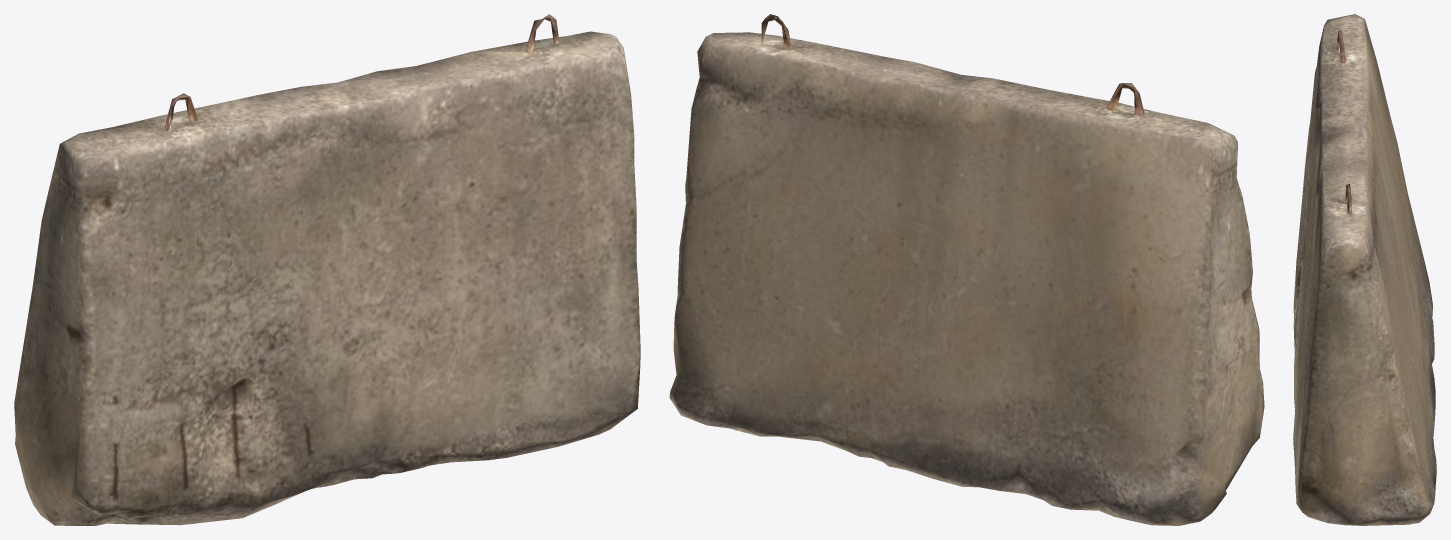
The model's file is barrier_low.glb.
3 renders of one model, left to right at view 1: azimuth 30°, elevation 25°; view 2: azimuth 150°, elevation 25°; view 3: azimuth 270°, elevation 25°, orthographic. The views are drawn at different scales.
Parts seen in each view (by area): view 1: barrier_low; view 2: barrier_low; view 3: barrier_low.
Part boxes in pixels (box(x1,y1,x2,y2)): barrier_low: box(14, 14, 640, 525); barrier_low: box(669, 14, 1264, 525); barrier_low: box(1293, 14, 1436, 525).
Size of the model in its own units: 1.56 by 1.11 by 0.437.
1 material, 1 textured.
